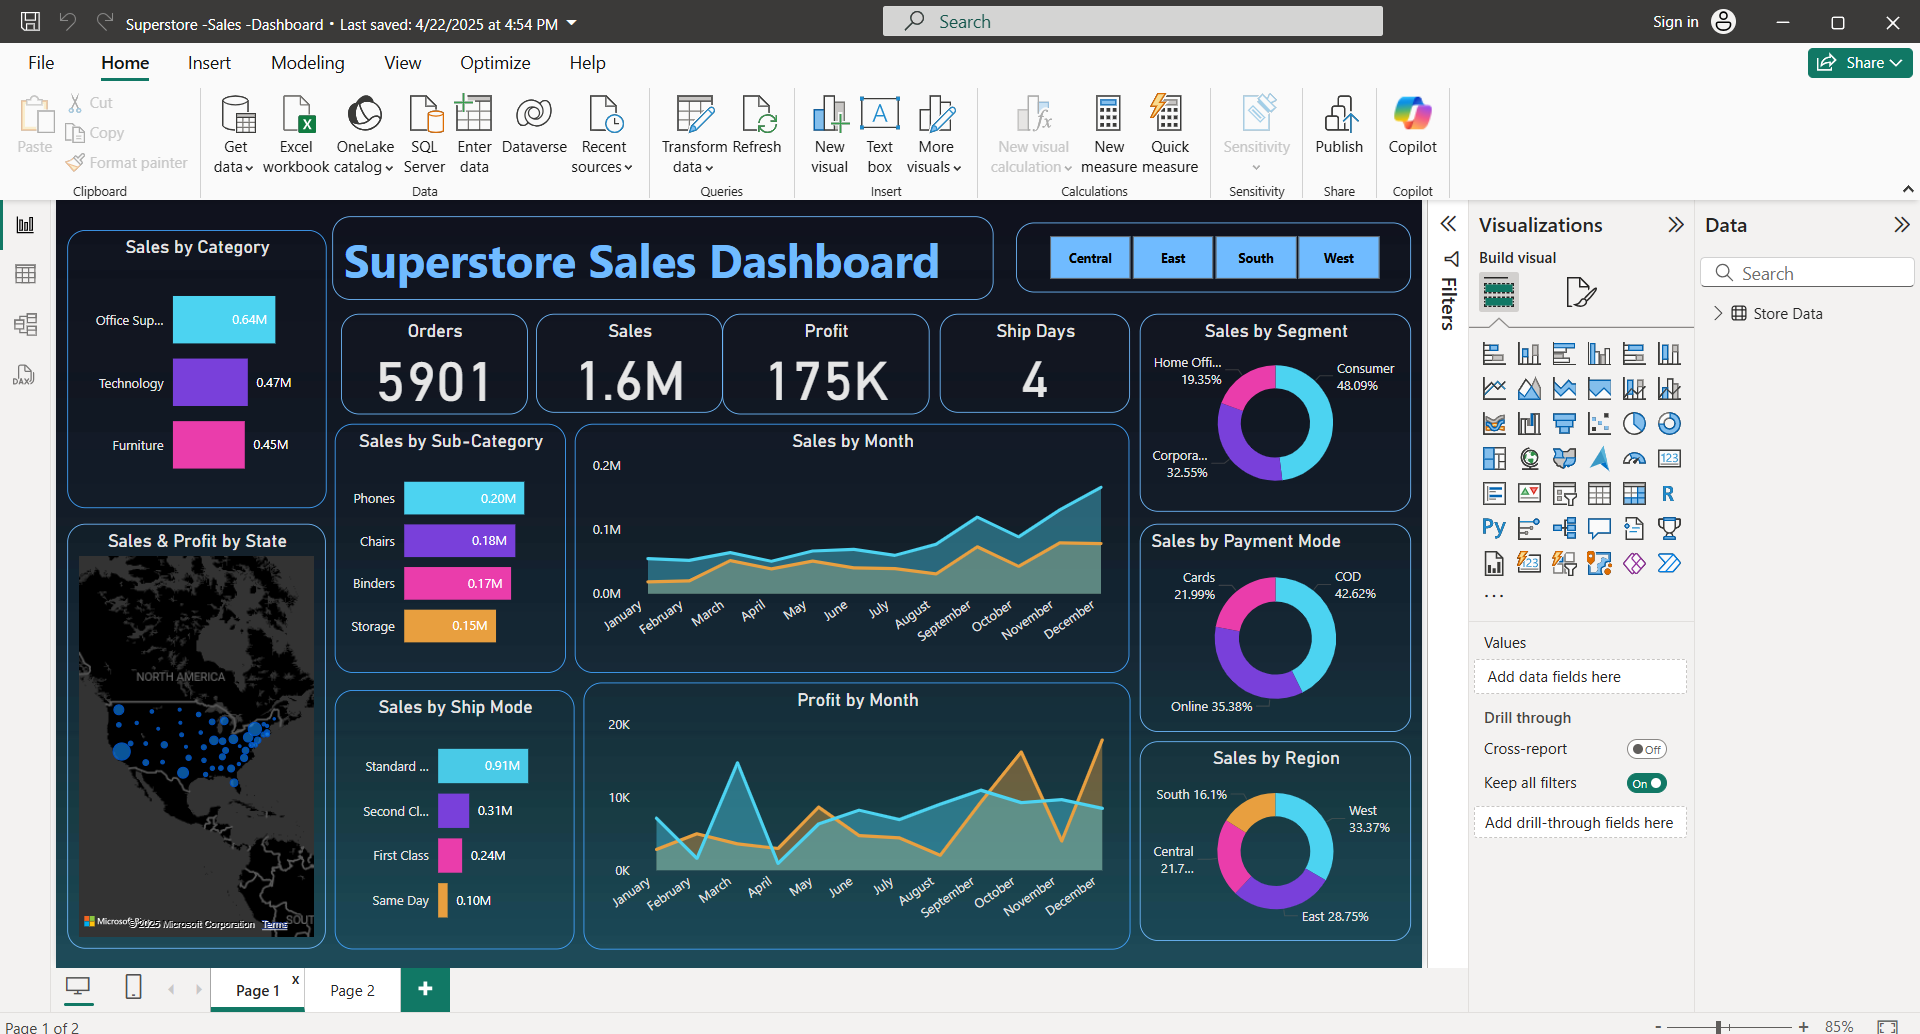

The dashboard page shown, as its layout file describes it:
{"tool":"powerbi","page":{"name":"Page 1","canvas":[1280,720],"ordinal":0},"visuals":[{"type":"barChart","title":" Sales by Category","fields":{"Category":["Store Data.Category"],"Y":["Sum(Store Data.Sales)"]},"box":[10.7,28.6,242.9,260.7],"z":0},{"type":"barChart","title":" Sales by Ship Mode","fields":{"Y":["Sum(Store Data.Sales)"],"Category":["Store Data.Ship Mode"]},"box":[261.9,459.5,225,242.9],"z":1000},{"type":"barChart","title":" Sales by Sub-Category","fields":{"Category":["Store Data.Sub-Category"],"Y":["Sum(Store Data.Sales)"]},"box":[261.9,209.5,216.7,233.3],"z":2000},{"type":"areaChart","title":" Sales by Month ","fields":{"Y":["Sum(Store Data.Sales)"],"Series":["Store Data.Order Date.Variation.Date Hierarchy.Year"],"Category":["Store Data.Order Date.Variation.Date Hierarchy.Month","Store Data.Order Date.Variation.Date Hierarchy.Day"]},"box":[486.9,209.5,520.2,233.3],"z":3000},{"type":"areaChart","title":" Profit by Month ","fields":{"Series":["Store Data.Order Date.Variation.Date Hierarchy.Year"],"Category":["Store Data.Order Date.Variation.Date Hierarchy.Month","Store Data.Order Date.Variation.Date Hierarchy.Day"],"Y":["Sum(Store Data.Profit)"]},"box":[494,452.4,513.1,250],"z":4000},{"type":"map","title":" Sales  & Profit by State","fields":{"Category":["Store Data.State"],"Size":["Sum(Store Data.Sales)"]},"box":[10.5,303.5,242.6,398.4],"z":5000},{"type":"donutChart","title":"Sales by Payment Mode","fields":{"Category":["Store Data.Payment Mode"],"Y":["Sum(Store Data.Sales)"]},"box":[1015.5,303.6,254.8,195.2],"z":6000},{"type":"donutChart","title":"Sales by Region","fields":{"Y":["Sum(Store Data.Sales)"],"Category":["Store Data.Region"]},"box":[1015.5,507.1,254.8,186.9],"z":7000},{"type":"donutChart","title":"Sales by Segment","fields":{"Y":["Sum(Store Data.Sales)"],"Category":["Store Data.Segment"]},"box":[1015.5,107.1,254.8,185.7],"z":8000},{"type":"card","title":" Orders","fields":{"Values":["CountNonNull(Store Data.Order ID)"]},"box":[266.7,107.1,175,94],"z":9000},{"type":"card","title":"Sales","fields":{"Values":["Sum(Store Data.Sales)"]},"box":[450,107.1,175,92.9],"z":10000},{"type":"card","title":"Profit","fields":{"Values":["Sum(Store Data.Profit)"]},"box":[625,107.1,194,94],"z":11000},{"type":"card","title":"Ship Days","fields":{"Values":["Avg(Store Data.AvgDelivery)"]},"box":[828.6,107.1,178.6,92.9],"z":12000},{"type":"textbox","box":[259,15.2,619.9,78.5],"z":13000},{"type":"slicer","fields":{"Values":["Store Data.Region"]},"box":[900,21.1,370.3,65.6],"z":14000}]}

Visuals, with their boxes on the page's 1280x720 design canvas (x1, y1, x2, y2). These are canvas units, not pixel positions in the 1920x1034 screenshot, which may show the page scaled, cropped or inside an application window:
" Sales by Category" barChart: [x1=11, y1=29, x2=254, y2=289]
" Sales by Ship Mode" barChart: [x1=262, y1=460, x2=487, y2=702]
" Sales by Sub-Category" barChart: [x1=262, y1=210, x2=479, y2=443]
" Sales by Month " areaChart: [x1=487, y1=210, x2=1007, y2=443]
" Profit by Month " areaChart: [x1=494, y1=452, x2=1007, y2=702]
" Sales  & Profit by State" map: [x1=10, y1=304, x2=253, y2=702]
"Sales by Payment Mode" donutChart: [x1=1016, y1=304, x2=1270, y2=499]
"Sales by Region" donutChart: [x1=1016, y1=507, x2=1270, y2=694]
"Sales by Segment" donutChart: [x1=1016, y1=107, x2=1270, y2=293]
" Orders" card: [x1=267, y1=107, x2=442, y2=201]
"Sales" card: [x1=450, y1=107, x2=625, y2=200]
"Profit" card: [x1=625, y1=107, x2=819, y2=201]
"Ship Days" card: [x1=829, y1=107, x2=1007, y2=200]
textbox: [x1=259, y1=15, x2=879, y2=94]
slicer - Store Data.Region: [x1=900, y1=21, x2=1270, y2=87]
